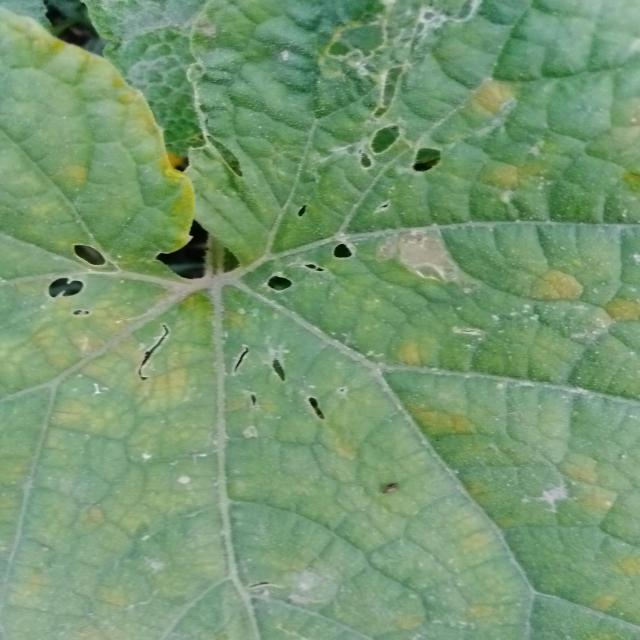cucumber_anthracnose: (22, 62, 567, 609)
